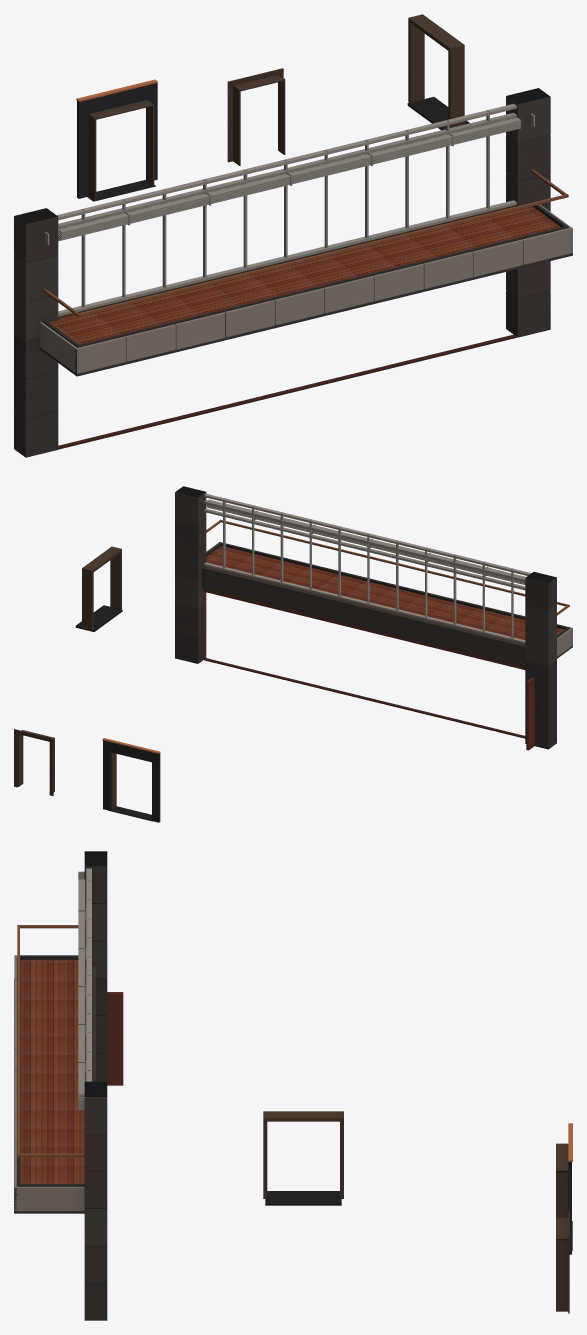
The model's file is suite_facade.glb.
3 renders of one model, top to bottom at view 1: azimuth 30°, elevation 25°; view 2: azimuth 150°, elevation 25°; view 3: azimuth 270°, elevation 25°, orthographic. The views are drawn at different scales.
Parts seen in each view (by area): view 1: suite_facade; view 2: suite_facade; view 3: suite_facade.
Boxes of the visible parts, left/top/right/bottom form: suite_facade: left=14, top=14, right=572, bottom=457; suite_facade: left=14, top=486, right=572, bottom=822; suite_facade: left=14, top=851, right=572, bottom=1320.
Size of the model in its own units: 16.53 by 6.82 by 15.38.
1 material, 1 textured.
